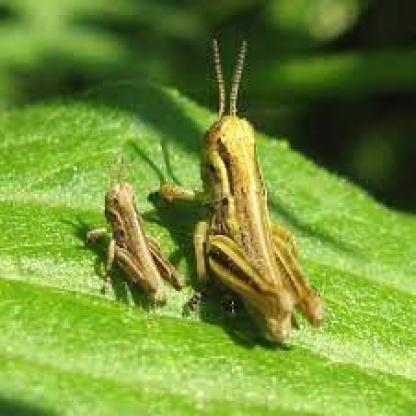grasshopper: (154, 42, 329, 341), (79, 171, 185, 311)
